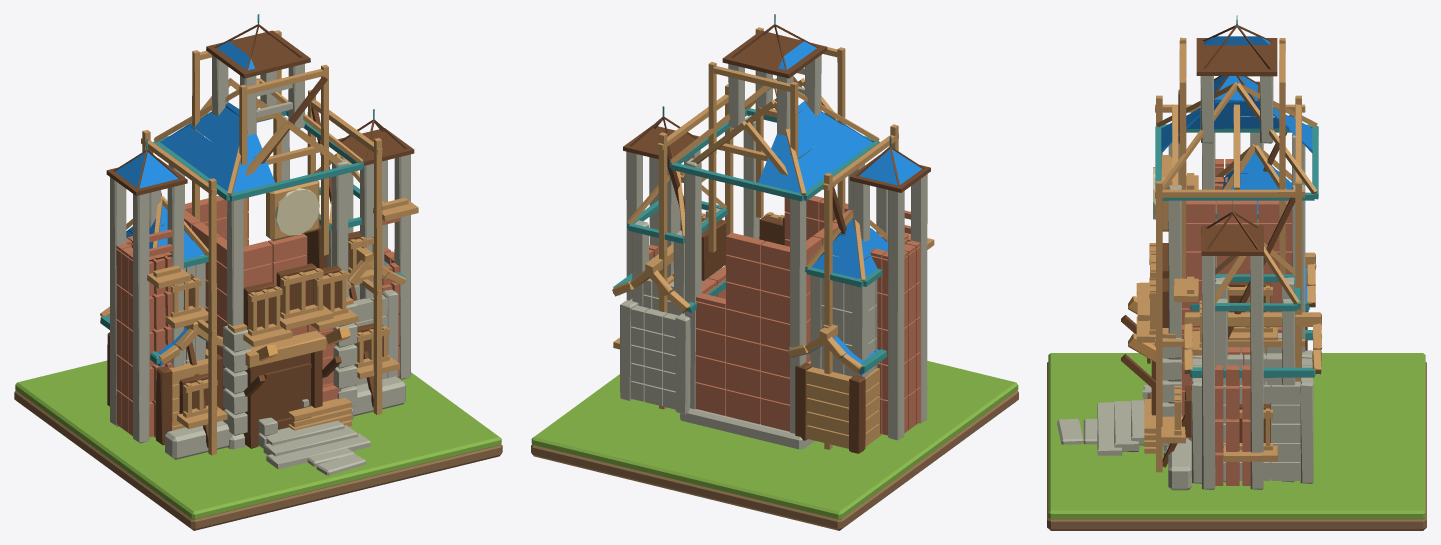
Rendered from town_hall_l11_construction_LOD1.glb.
3 views of the same model, side by side, from view 1: azimuth 30°, elevation 25°; view 2: azimuth 150°, elevation 25°; view 3: azimuth 270°, elevation 25° (orthographic). The views are drawn at different scales.
Parts seen in each view (by area): view 1: town_hall_l11_construction_foundation.001, town_hall_l11_construction_grass_tile.001, town_hall_l11_construction_earth_tile.001, town_hall_l11_construction_path_stone.005; view 2: town_hall_l11_construction_foundation.001, town_hall_l11_construction_grass_tile.001, town_hall_l11_construction_earth_tile.001; view 3: town_hall_l11_construction_foundation.001, town_hall_l11_construction_grass_tile.001, town_hall_l11_construction_earth_tile.001, town_hall_l11_construction_path_stone.005.
Part boxes in pixels (x1,y1,x2,y2): town_hall_l11_construction_foundation.001: (100, 14, 418, 469); town_hall_l11_construction_grass_tile.001: (15, 360, 501, 519); town_hall_l11_construction_earth_tile.001: (14, 390, 502, 530); town_hall_l11_construction_path_stone.005: (316, 453, 365, 475); town_hall_l11_construction_foundation.001: (612, 14, 934, 453); town_hall_l11_construction_grass_tile.001: (531, 361, 1018, 519); town_hall_l11_construction_earth_tile.001: (531, 390, 1018, 530); town_hall_l11_construction_foundation.001: (1097, 15, 1322, 490); town_hall_l11_construction_grass_tile.001: (1048, 353, 1425, 519); town_hall_l11_construction_earth_tile.001: (1047, 362, 1426, 530); town_hall_l11_construction_path_stone.005: (1057, 418, 1083, 444).
Size of the model in its own units: 3.6 by 4.58 by 3.6.
